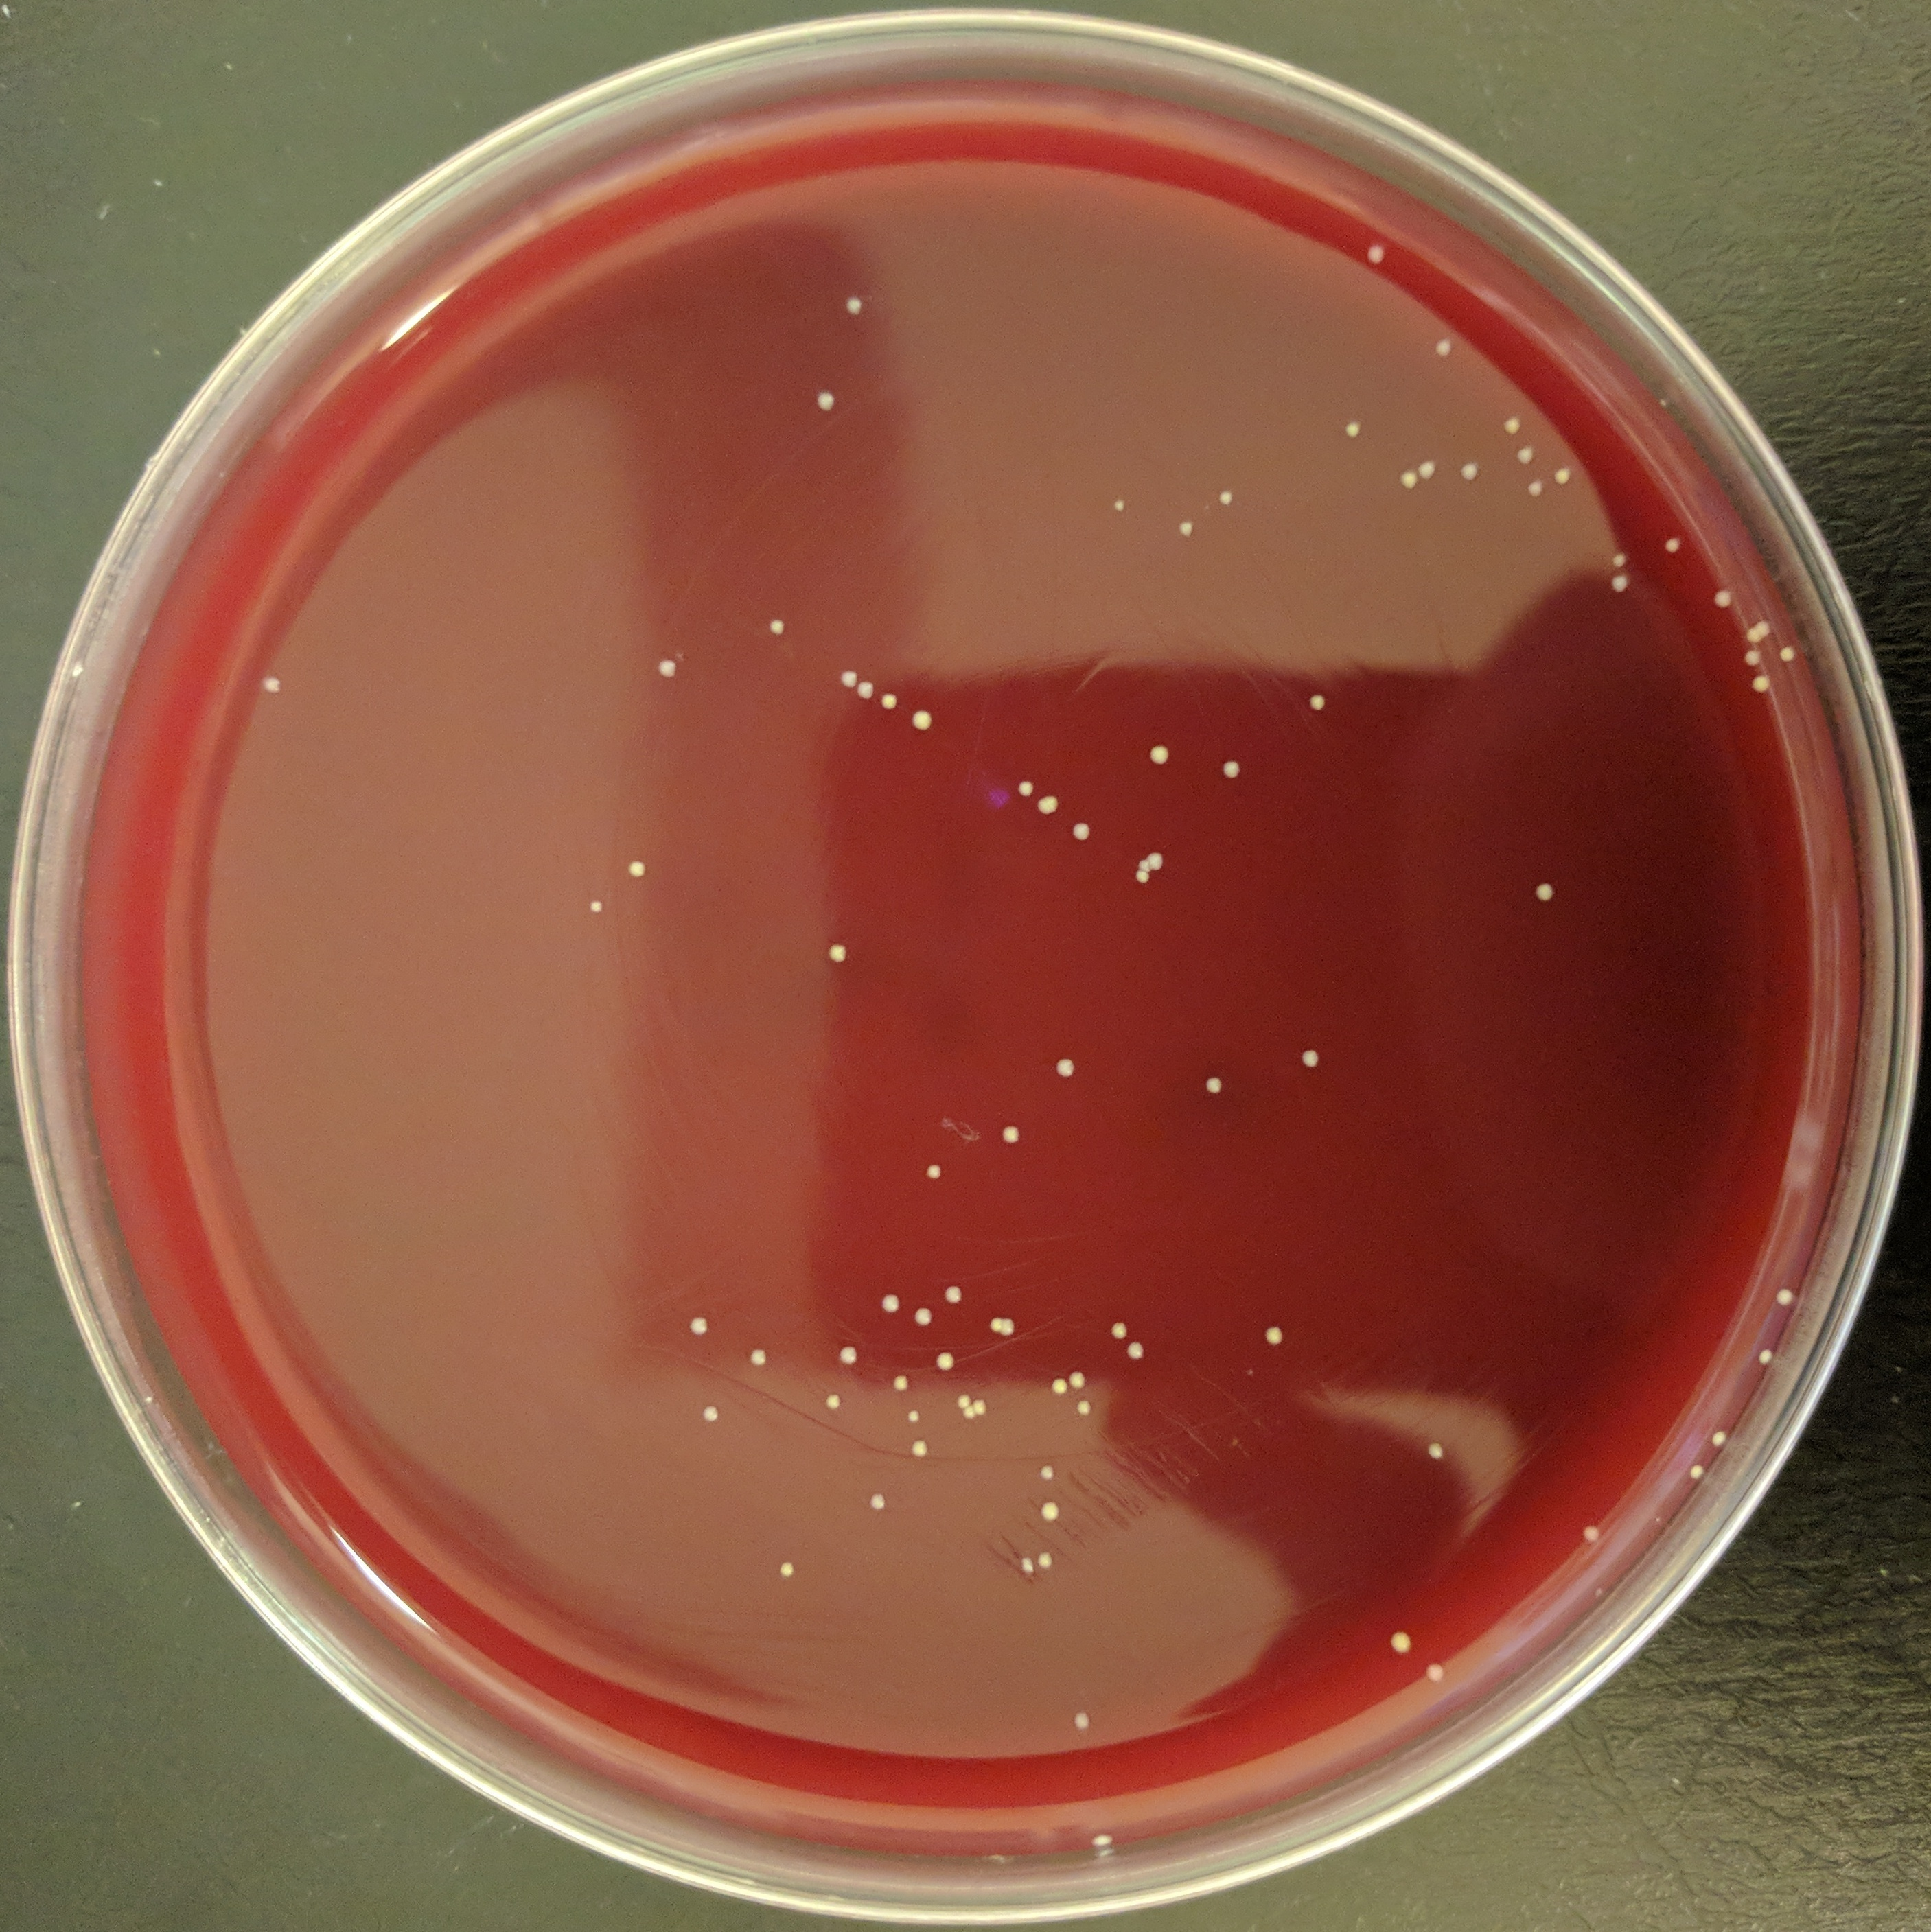sp09: (1050, 1053, 1082, 1087), (1301, 688, 1335, 716), (1770, 1283, 1802, 1312), (1431, 332, 1462, 359), (1144, 741, 1172, 769), (1530, 879, 1558, 907), (697, 1400, 725, 1428), (826, 939, 852, 969), (1386, 1628, 1413, 1658), (1420, 1441, 1452, 1465), (1363, 240, 1390, 269), (1298, 1048, 1326, 1075), (1261, 1320, 1287, 1349), (1072, 1391, 1098, 1419), (1070, 1708, 1096, 1736), (999, 1121, 1024, 1151), (842, 292, 868, 318), (1070, 817, 1096, 843), (1455, 458, 1482, 484), (1036, 1495, 1063, 1522), (1217, 755, 1245, 780), (875, 1289, 904, 1313), (1066, 1363, 1091, 1391), (1425, 1658, 1450, 1686), (686, 1312, 714, 1336), (833, 1342, 861, 1366), (1577, 1522, 1607, 1545), (256, 673, 283, 698), (654, 656, 679, 682), (907, 707, 934, 732), (1176, 514, 1201, 541), (1501, 412, 1526, 438), (1514, 442, 1538, 468), (1553, 463, 1577, 490), (1756, 1345, 1782, 1370), (930, 1350, 957, 1375), (1710, 587, 1735, 612), (813, 385, 836, 412), (1215, 484, 1238, 511), (773, 1557, 796, 1584), (766, 613, 787, 642), (1033, 795, 1061, 817), (868, 1487, 889, 1515), (743, 1347, 773, 1366), (875, 688, 898, 712), (1609, 574, 1632, 599), (1201, 1075, 1225, 1098), (1125, 1340, 1148, 1365), (944, 1282, 967, 1306), (921, 1163, 948, 1184), (1395, 467, 1418, 490), (1749, 673, 1772, 696), (1109, 1317, 1132, 1340), (622, 857, 647, 879), (909, 1437, 930, 1462), (914, 1303, 934, 1329), (856, 677, 877, 700), (1342, 419, 1363, 442), (1524, 479, 1546, 502), (889, 1373, 912, 1395), (1047, 1377, 1068, 1400), (822, 1391, 845, 1412), (1036, 1548, 1056, 1573), (1685, 1458, 1705, 1483), (838, 665, 856, 691), (585, 894, 607, 916), (1148, 848, 1169, 870), (1777, 643, 1798, 665), (1740, 645, 1763, 665), (1019, 1552, 1038, 1575), (1708, 1426, 1731, 1446), (1751, 620, 1775, 638), (1038, 1458, 1056, 1483), (1001, 1315, 1017, 1342), (1742, 629, 1765, 647), (1111, 497, 1130, 516), (1132, 868, 1151, 887), (1418, 460, 1436, 481), (904, 1411, 925, 1428), (1017, 780, 1038, 795), (1662, 537, 1683, 553), (987, 1313, 1001, 1336), (1609, 550, 1627, 567), (953, 1391, 971, 1409), (973, 1400, 988, 1416), (962, 1407, 976, 1423)
